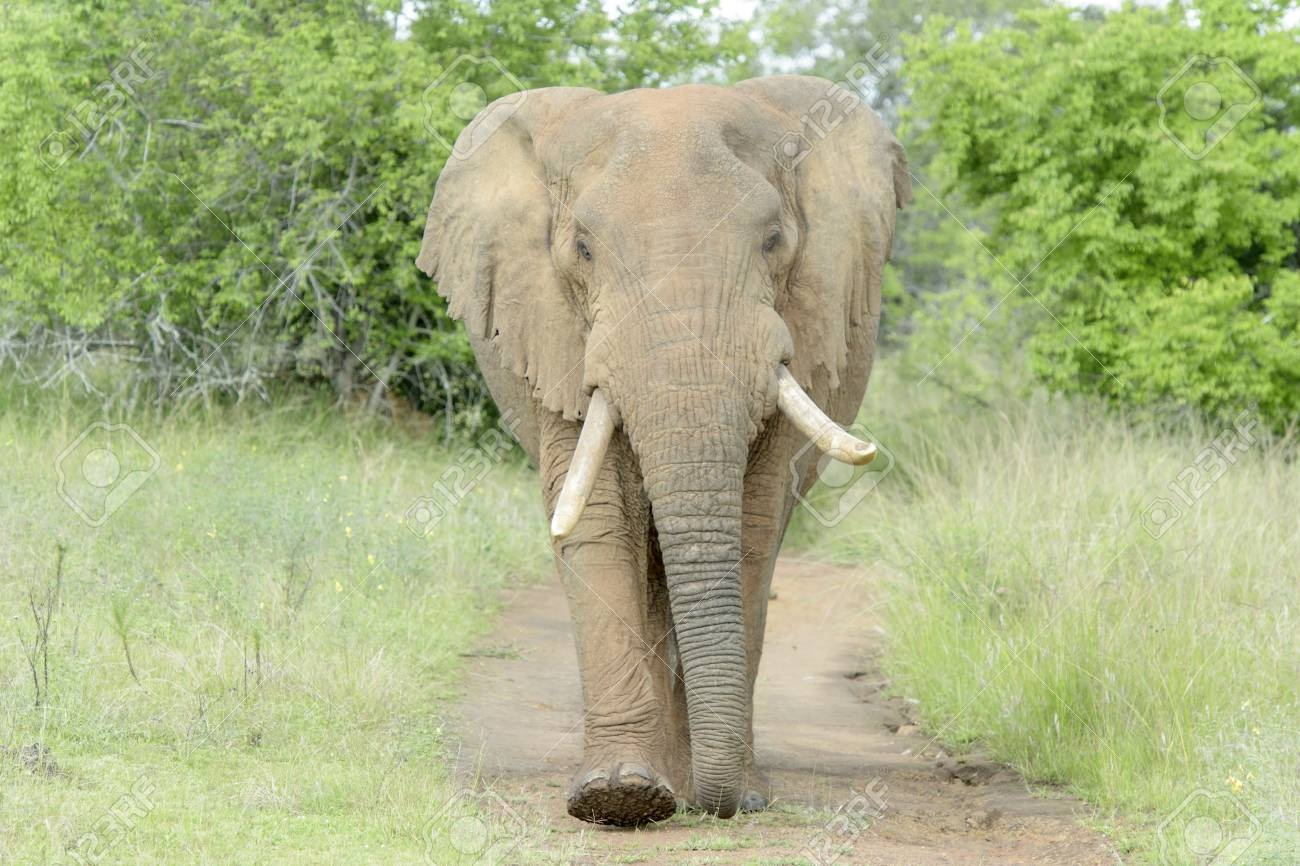elephant: (412, 69, 918, 831)
